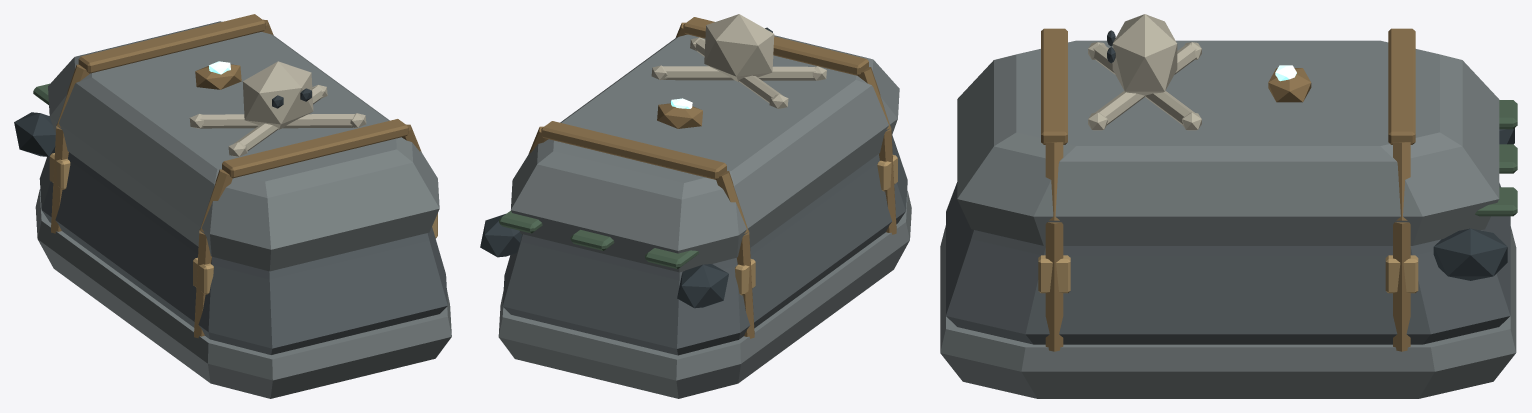
File: warden_sarcophagus.glb
The picture shows the model from 3 angles, left to right: view 1: azimuth 30°, elevation 25°; view 2: azimuth 150°, elevation 25°; view 3: azimuth 270°, elevation 25°; orthographic projection. The views are drawn at different scales.
Visible parts, largest first — view 1: warden_sarcophagus; view 2: warden_sarcophagus; view 3: warden_sarcophagus.
Part boxes in pixels (x1=…): warden_sarcophagus: x1=14, y1=14, x2=451, y2=398; warden_sarcophagus: x1=480, y1=14, x2=911, y2=398; warden_sarcophagus: x1=940, y1=14, x2=1517, y2=398.
Size of the model in its own units: 0.941 by 0.972 by 1.6.
